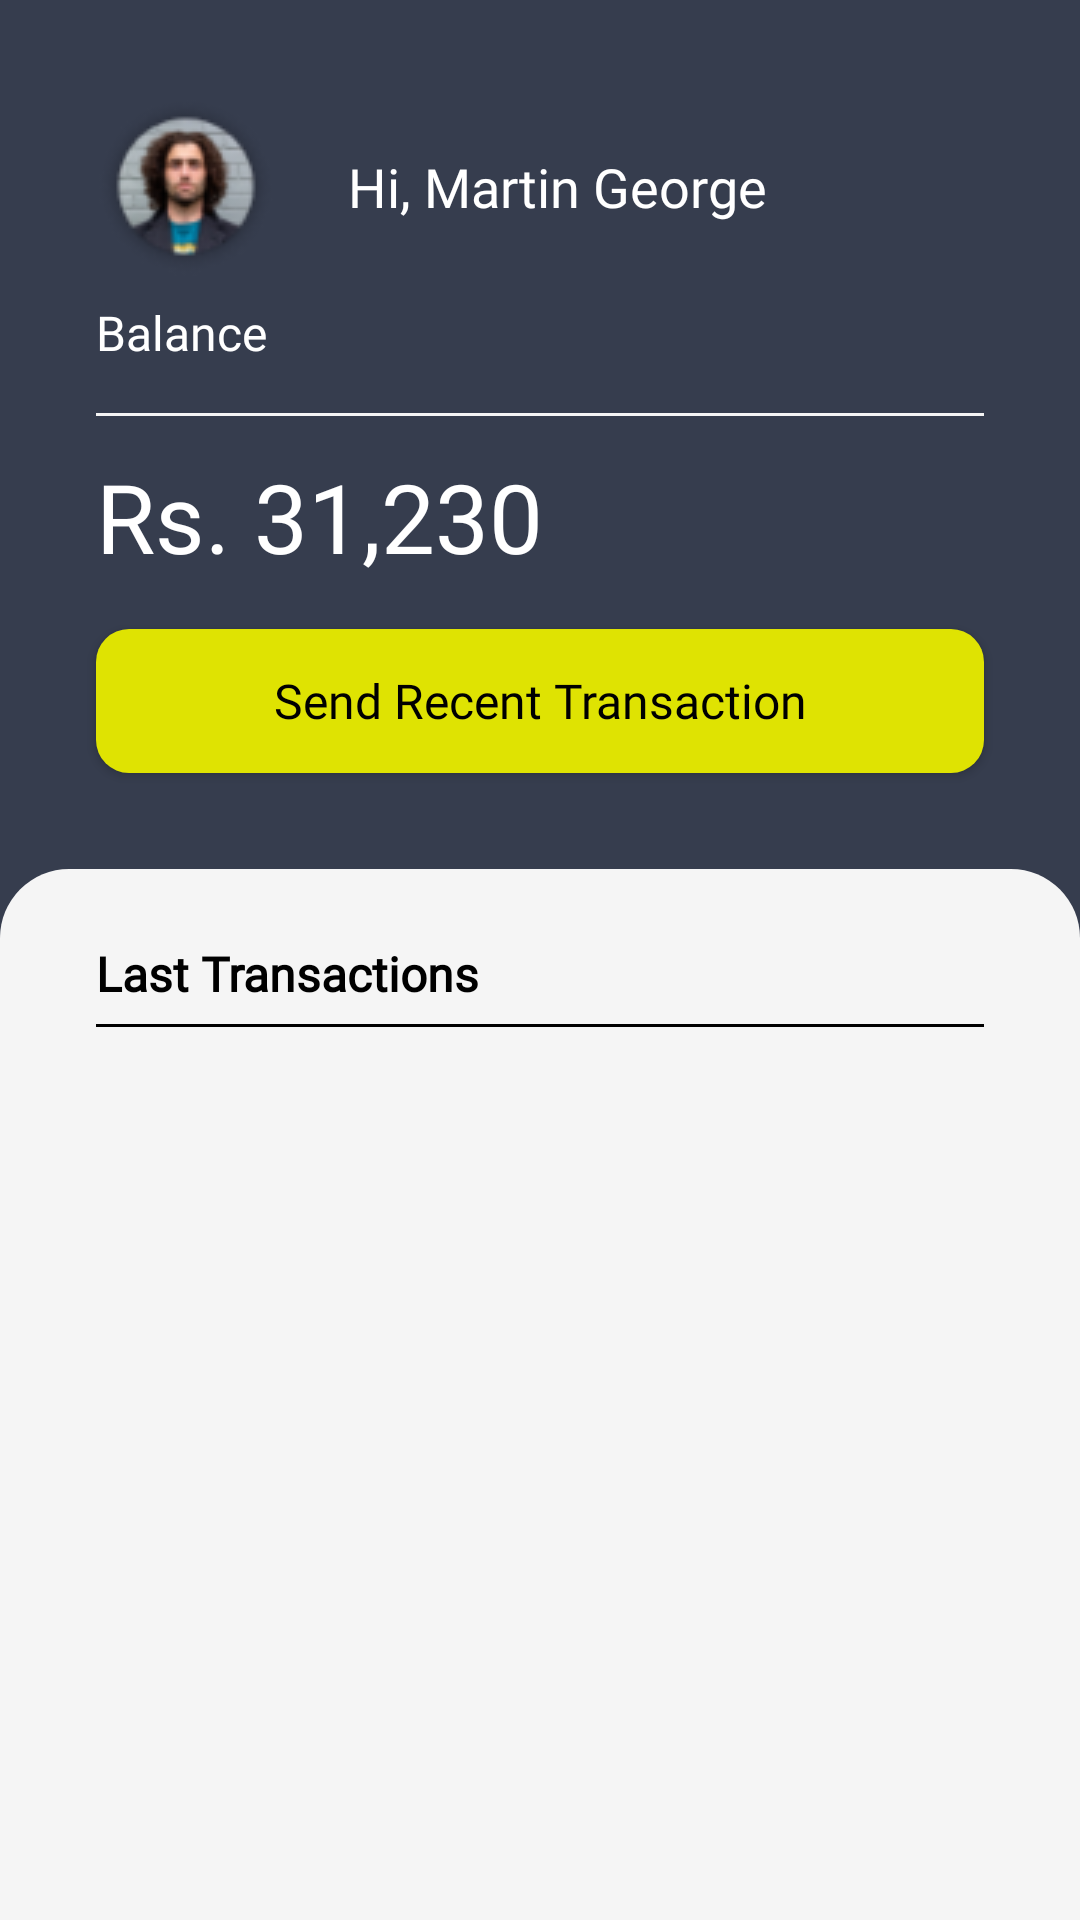

Named icons in this screenshot (1080w x 1920h) and their centers, (x,y):
profile picture: (186,186)
